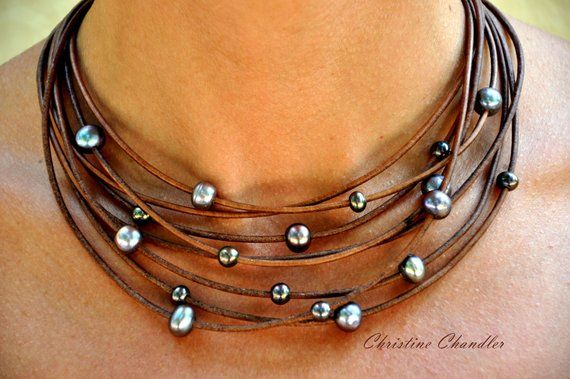cuero: (36, 1, 525, 331)
